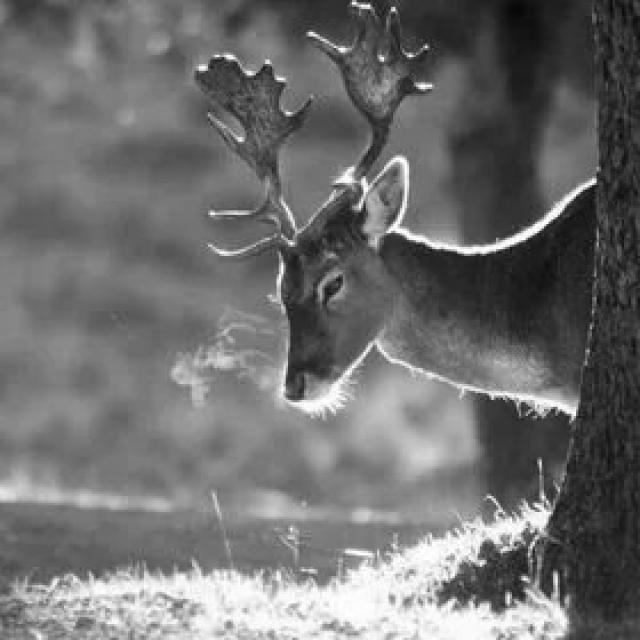Deer: (209, 63, 639, 433)
